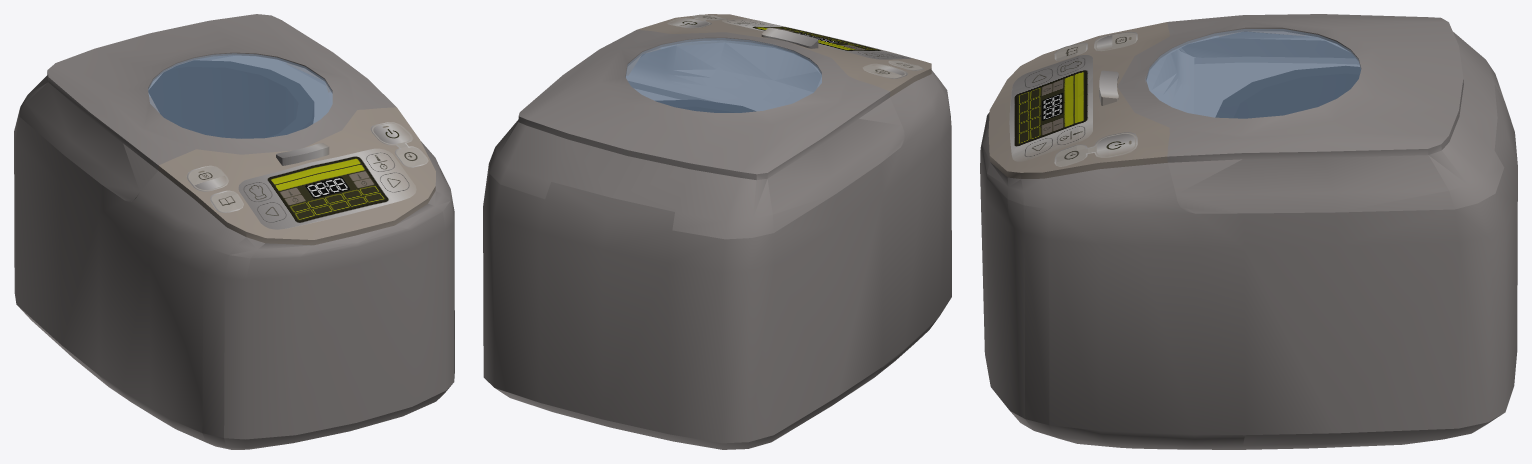
File: scopia-cooker.glb
The picture shows the model from 3 angles, left to right: view 1: azimuth 30°, elevation 25°; view 2: azimuth 150°, elevation 25°; view 3: azimuth 270°, elevation 25°; orthographic projection. The views are drawn at different scales.
Parts seen in each view (by area): view 1: Base_Cube, sweethome3d_opening_on_hinge_1_top, sweethome3d_opening_on_hinge_1_glass, pot_Circle, Controls_Plane, Controls2_Plane.002, Button_Plane.001; view 2: Base_Cube, sweethome3d_opening_on_hinge_1_top, sweethome3d_opening_on_hinge_1_glass, Controls_Plane, Controls2_Plane.002, pot_Circle, Button_Plane.001; view 3: Base_Cube, sweethome3d_opening_on_hinge_1_top, sweethome3d_opening_on_hinge_1_glass, Controls_Plane, pot_Circle, Controls2_Plane.002, Button_Plane.001.
Boxes of the visible parts, bbox=[...] form: Base_Cube: bbox=[14, 56, 454, 449]; sweethome3d_opening_on_hinge_1_top: bbox=[19, 14, 396, 200]; sweethome3d_opening_on_hinge_1_glass: bbox=[148, 53, 332, 138]; pot_Circle: bbox=[148, 60, 313, 138]; Controls_Plane: bbox=[238, 148, 416, 229]; Controls2_Plane.002: bbox=[186, 122, 428, 212]; Button_Plane.001: bbox=[276, 143, 329, 165]; Base_Cube: bbox=[483, 14, 951, 449]; sweethome3d_opening_on_hinge_1_top: bbox=[489, 29, 904, 239]; sweethome3d_opening_on_hinge_1_glass: bbox=[626, 38, 821, 112]; Controls_Plane: bbox=[722, 18, 910, 59]; Controls2_Plane.002: bbox=[667, 14, 923, 78]; pot_Circle: bbox=[656, 100, 755, 112]; Button_Plane.001: bbox=[761, 27, 818, 48]; Base_Cube: bbox=[980, 22, 1517, 449]; sweethome3d_opening_on_hinge_1_top: bbox=[1117, 14, 1504, 213]; sweethome3d_opening_on_hinge_1_glass: bbox=[1146, 29, 1360, 118]; Controls_Plane: bbox=[1009, 55, 1092, 161]; pot_Circle: bbox=[1215, 66, 1360, 118]; Controls2_Plane.002: bbox=[1054, 31, 1137, 166]; Button_Plane.001: bbox=[1099, 70, 1118, 105].
Size of the model in its own units: 28.94 by 27.06 by 39.98.
Materials: 6 (2 with a texture image).
